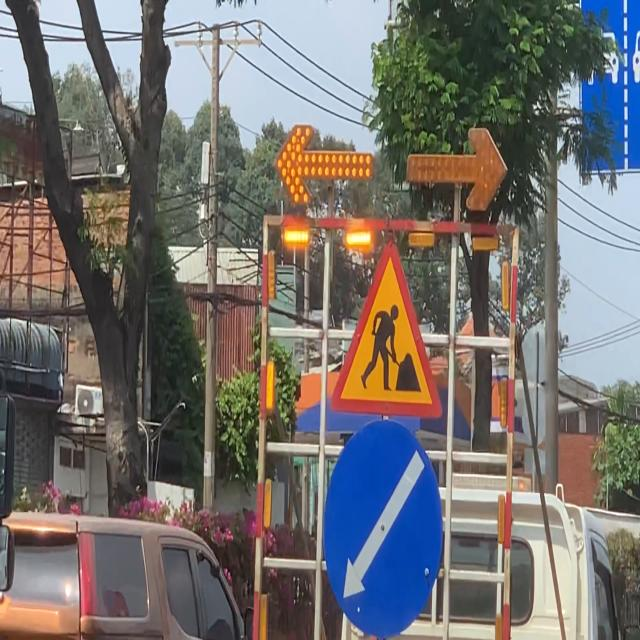Hieu lenh: (322, 417, 444, 640)
Nguy hiem: (328, 235, 445, 421)
